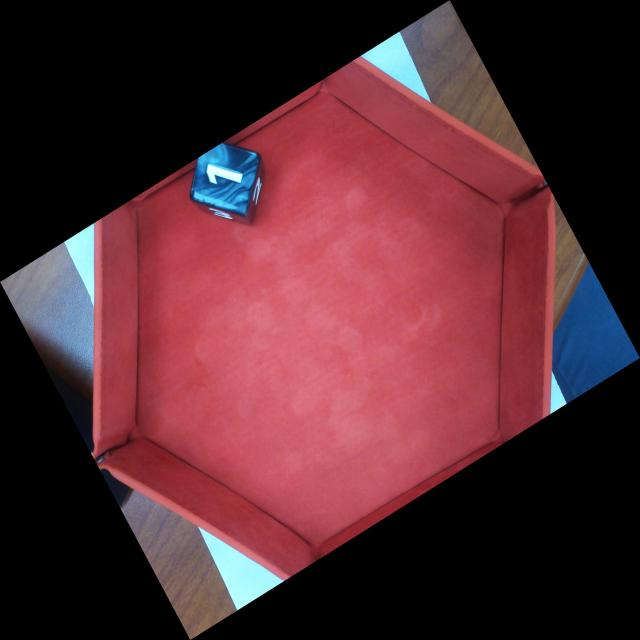dice: (192, 142, 260, 218)
